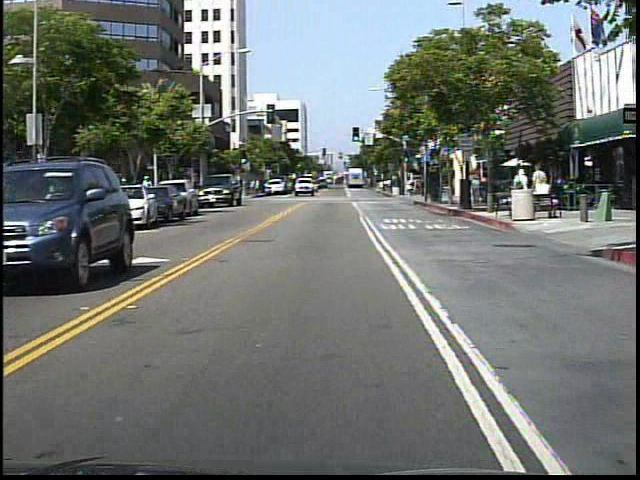person: (249, 175, 263, 200)
